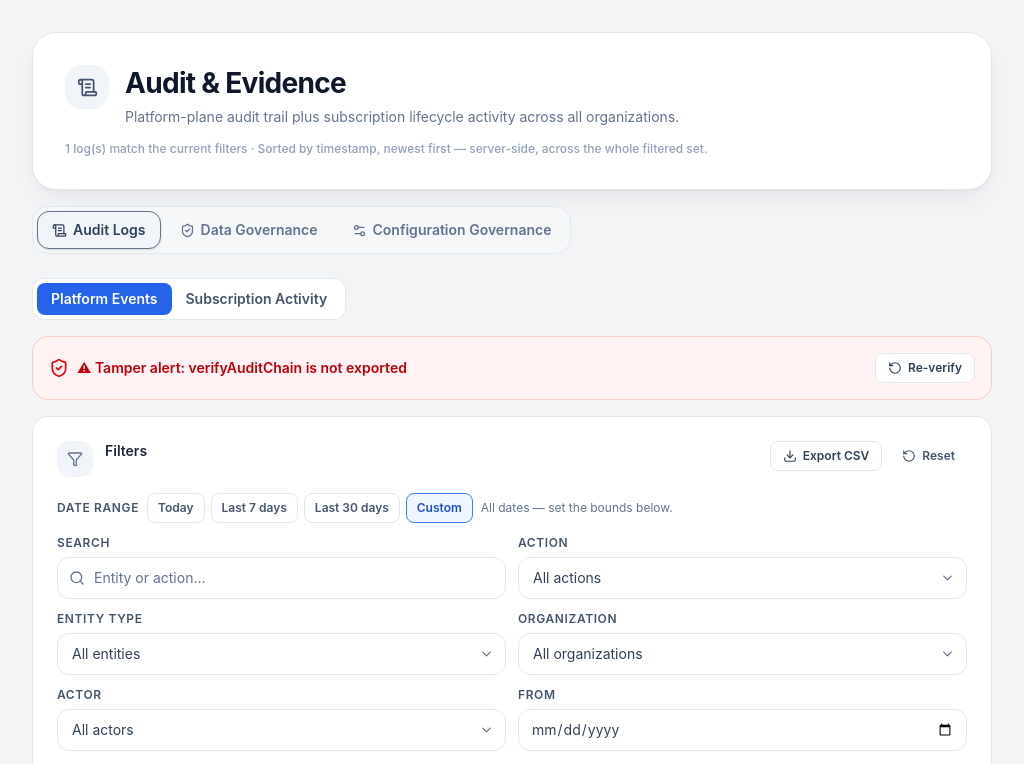
Test: AuditLogsPage › exports with the active filters and reports a real row count
Click the button "Export CSV": [826, 456] box [770,441,882,471]
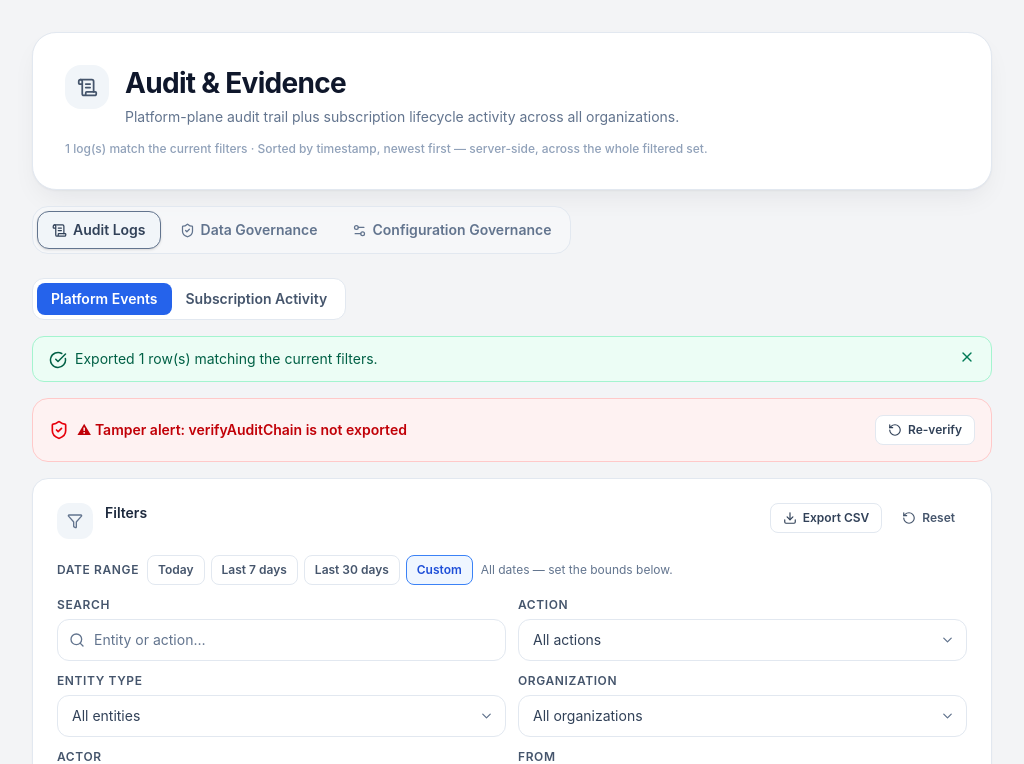
Result: the text "Exported 1 row(s) matching the current filters." is shown at [75,350,378,367]
